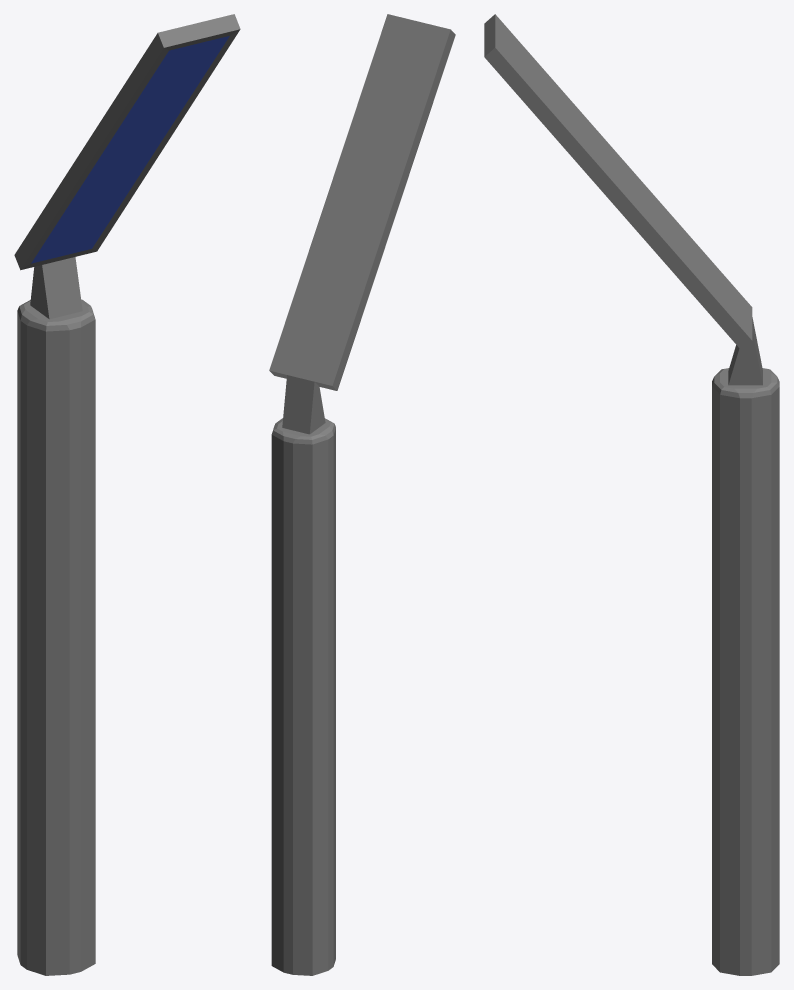
File: lamp.fbx
3 renders of one model, left to right at view 1: azimuth 30°, elevation 25°; view 2: azimuth 150°, elevation 25°; view 3: azimuth 270°, elevation 25°, orthographic. The views are drawn at different scales.
Parts seen in each view (by area): view 1: lamp; view 2: lamp; view 3: lamp.
Boxes of the visible parts, left/top/right/bottom form: lamp: left=14, top=14, right=240, bottom=975; lamp: left=269, top=14, right=455, bottom=975; lamp: left=484, top=14, right=779, bottom=975.
Bounding box in the file's own units: 234 × 3030 × 871.
